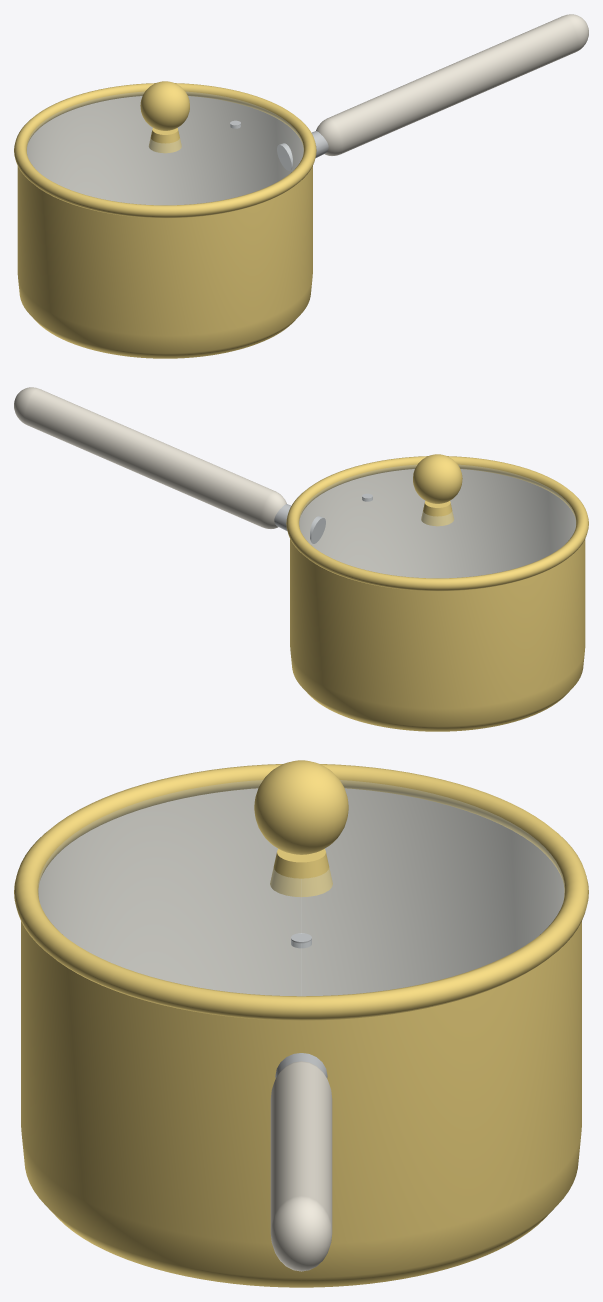
The model's file is bebe.glb.
3 views of the same model, one above another, from view 1: azimuth 30°, elevation 25°; view 2: azimuth 150°, elevation 25°; view 3: azimuth 270°, elevation 25° (orthographic). The views are drawn at different scales.
Parts seen in each view (by area): view 1: Shell, LidGlass, Interior, Handle, LidRim, Knob, KnobNeck, Bracket; view 2: Shell, LidGlass, Interior, Handle, LidRim, Knob, KnobNeck, Bracket; view 3: Shell, LidGlass, Interior, LidRim, Handle, Knob, KnobNeck.
Boxes of the visible parts, left/top/right/bottom form: Shell: left=17, top=166, right=312, bottom=358; LidGlass: left=27, top=92, right=303, bottom=204; Interior: left=27, top=96, right=303, bottom=205; Handle: left=316, top=14, right=588, bottom=155; LidRim: left=14, top=83, right=316, bottom=218; Knob: left=140, top=81, right=189, bottom=130; KnobNeck: left=148, top=128, right=181, bottom=153; Bracket: left=277, top=131, right=328, bottom=170; Shell: left=290, top=539, right=585, bottom=731; LidGlass: left=299, top=465, right=575, bottom=577; Interior: left=299, top=469, right=575, bottom=578; Handle: left=14, top=387, right=286, bottom=528; LidRim: left=286, top=456, right=588, bottom=591; Knob: left=413, top=454, right=462, bottom=503; KnobNeck: left=421, top=501, right=454, bottom=526; Bracket: left=274, top=504, right=325, bottom=543; Shell: left=21, top=921, right=581, bottom=1287; LidGlass: left=38, top=780, right=564, bottom=995; Interior: left=38, top=788, right=564, bottom=996; LidRim: left=14, top=764, right=588, bottom=1020; Handle: left=270, top=1061, right=332, bottom=1271; Knob: left=254, top=760, right=348, bottom=854; KnobNeck: left=270, top=849, right=332, bottom=897.
Size of the model in its own units: 0.3461 by 0.1316 by 0.164.
